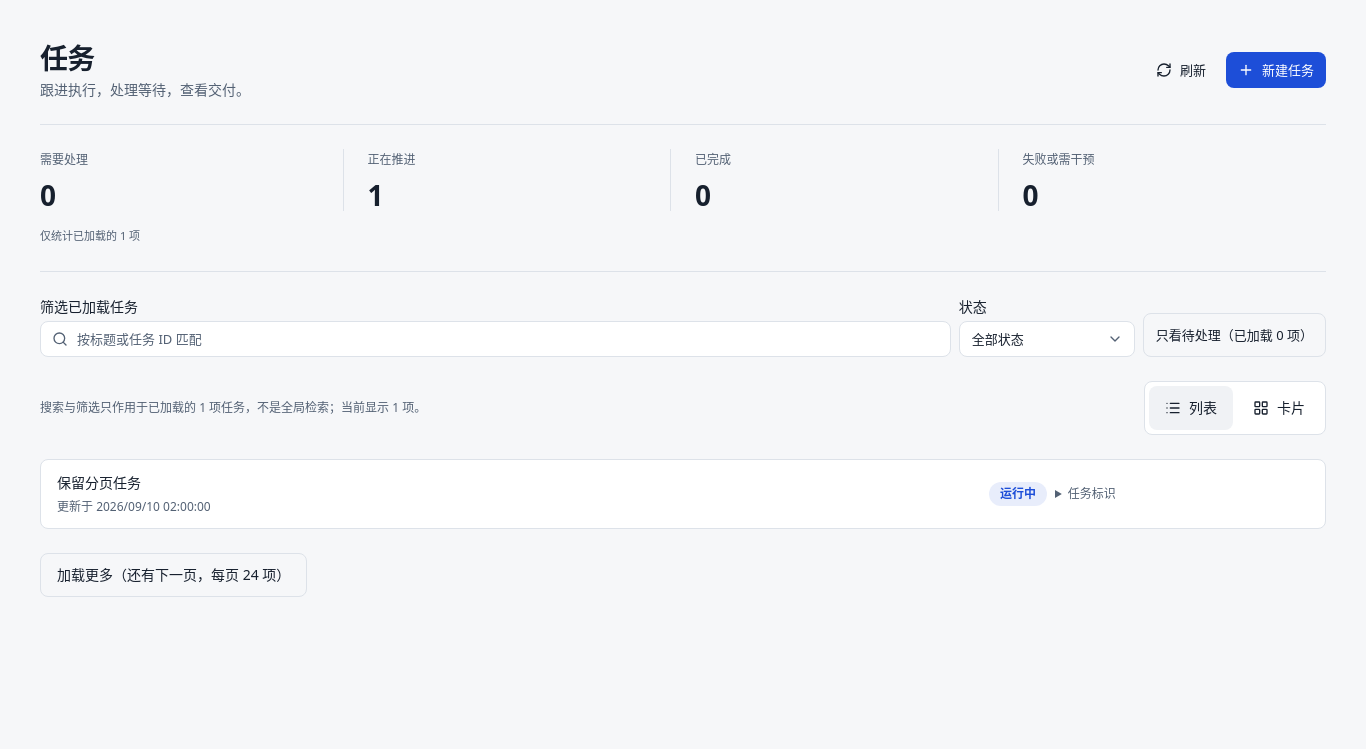
Test: TaskListView › 下一页失败保留条目、错误和原游标，切换后可以重试
Expected: the text "保留分页任务" is shown, 57,473 -> 141,492
Click the button "加载更多（还有下一页，每页 24 项）": {"x": 174, "y": 575} 40,553 -> 307,597
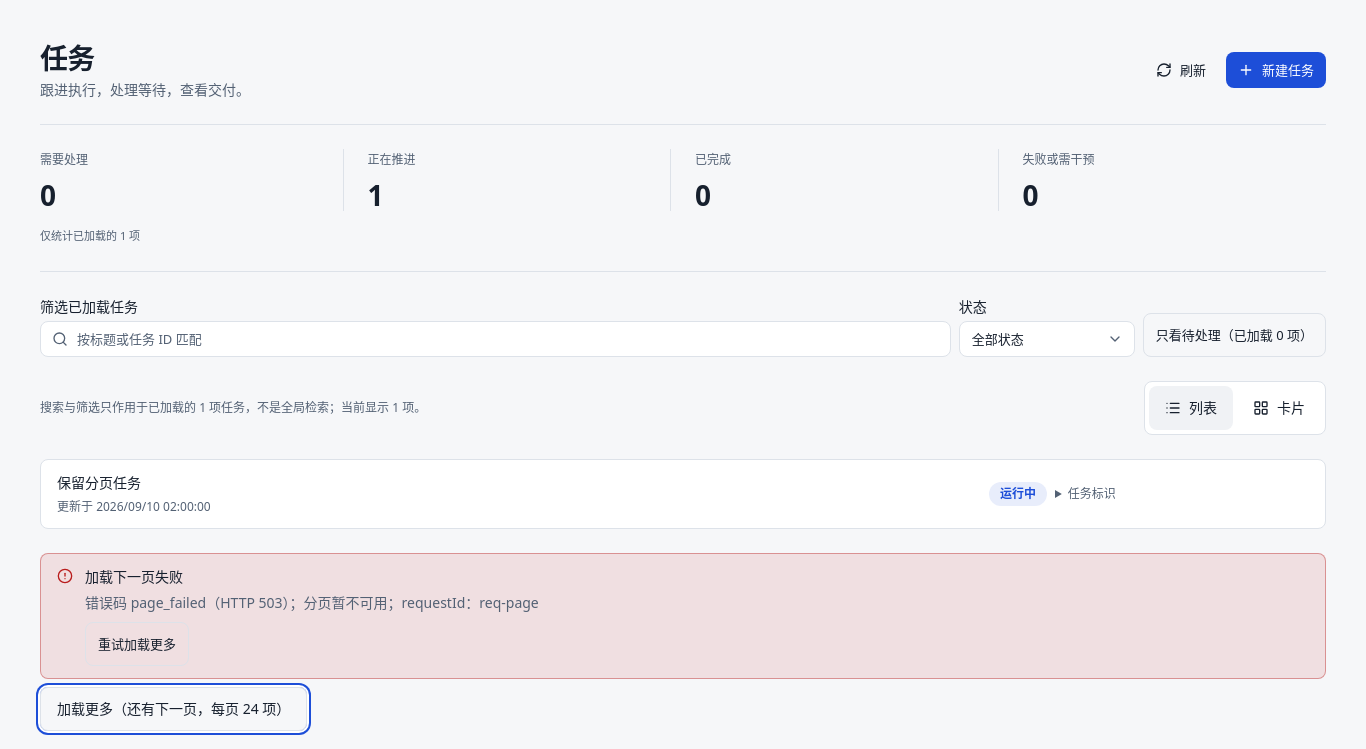
Expected: the message shows "加载下一页失败", 85,567 -> 183,586
Click the button "卡片": {"x": 1279, "y": 408} 1237,386 -> 1321,430
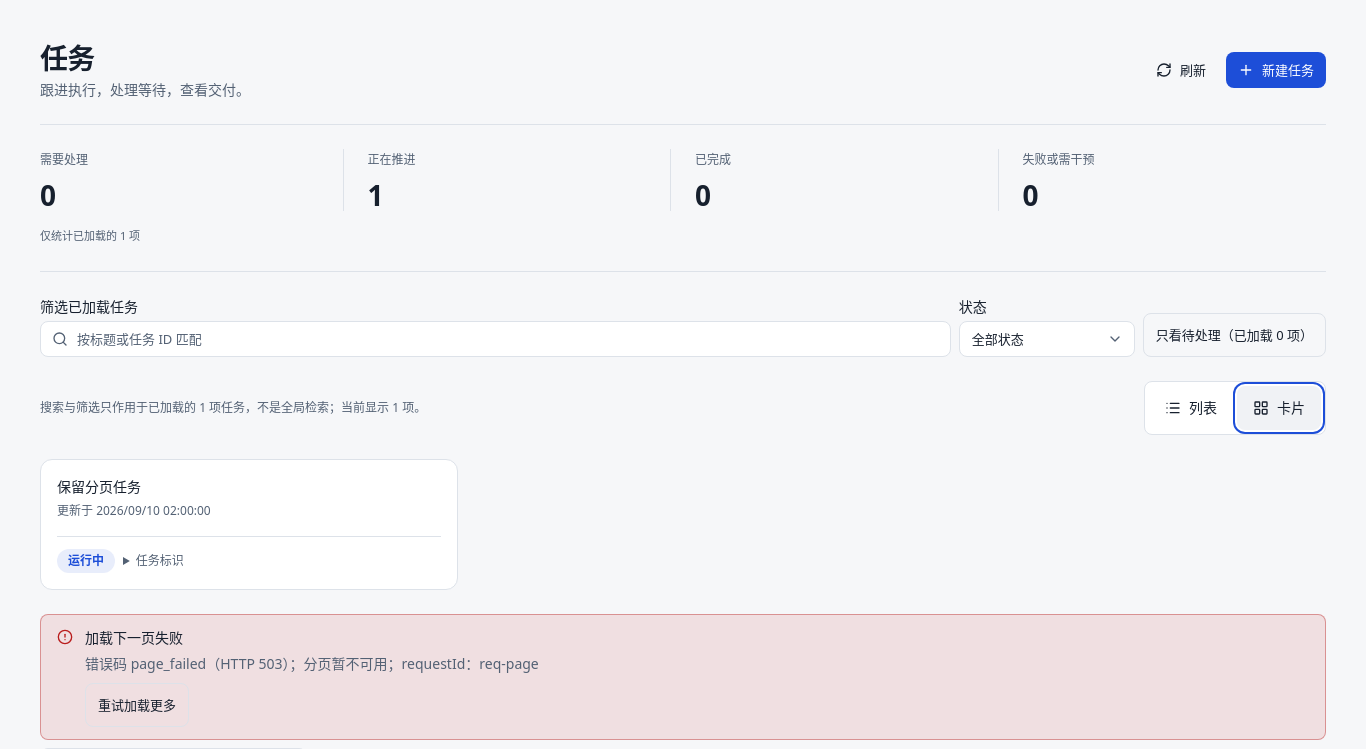
Expected: the text "保留分页任务" is shown, 57,477 -> 141,496
Expected: the message shows "req-page", 85,654 -> 539,673
Click the button "重试加载更多": {"x": 137, "y": 705} 85,683 -> 189,727
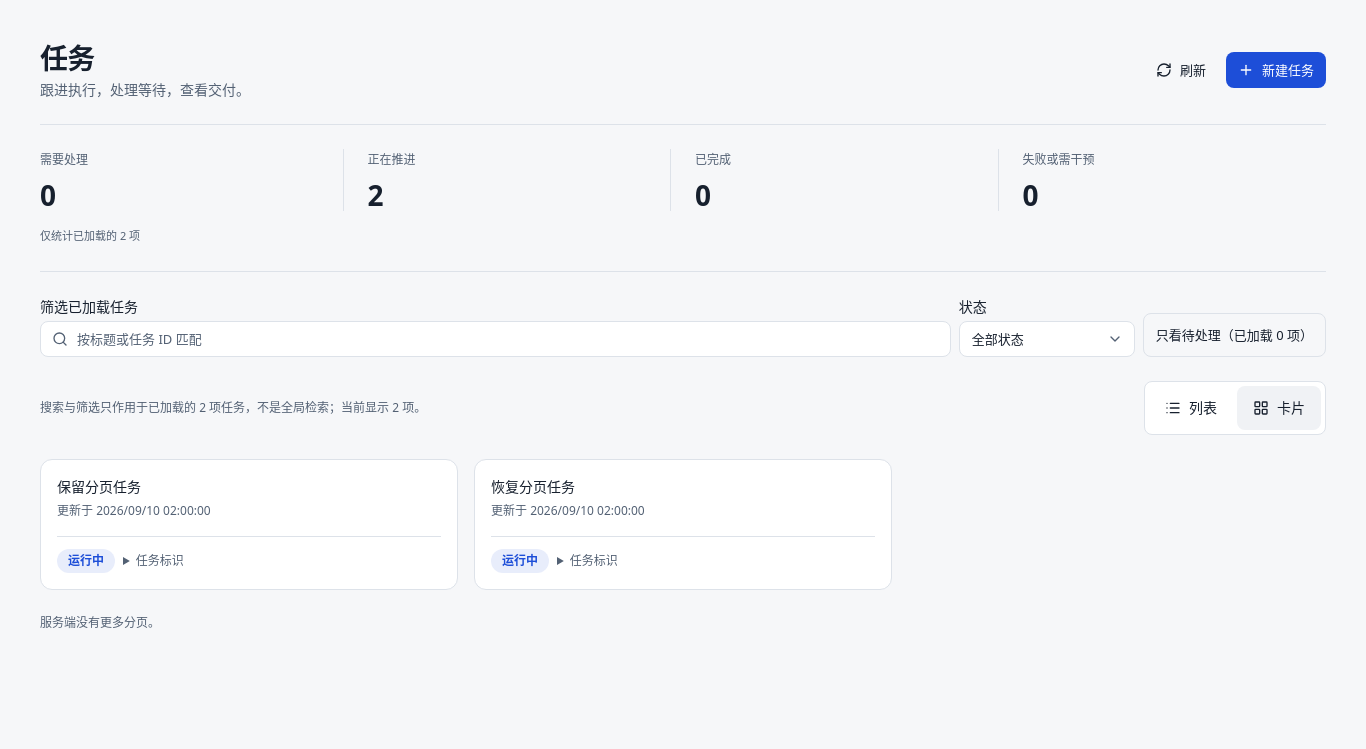
Expected: the text "恢复分页任务" is shown, 491,477 -> 575,496
